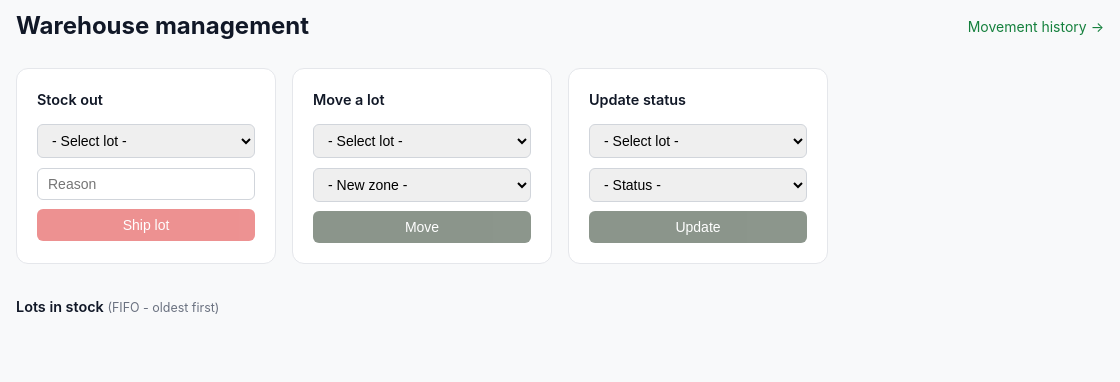
Test: WarehouseView › shows a success message after updating a lot status
Step 1. Select "ABC123" in the 3rd dropdown → (698, 141), box [589,124,807,158]
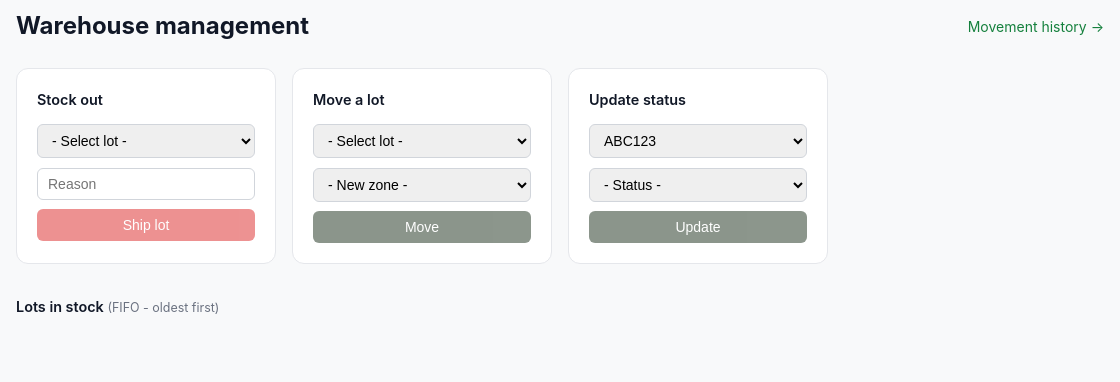
Step 2. Select "Compliant" in the 5th dropdown → (698, 185), box [589,168,807,202]
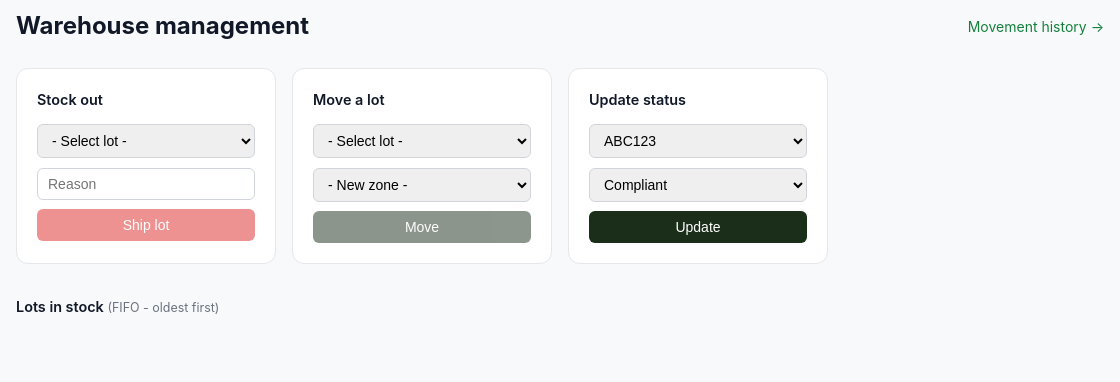
Step 3. Click the button "Update" → click(698, 227), box [589,211,807,243]
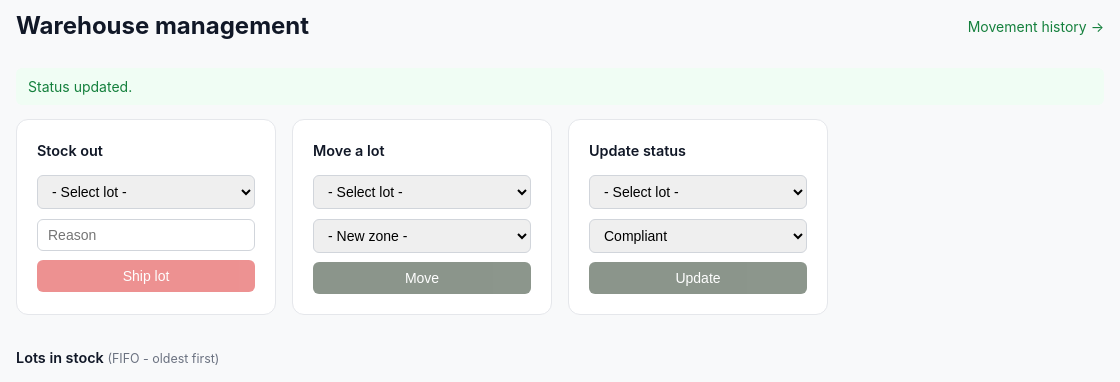
Check: the text with class "success" reads "Status updated.", box [28,78,132,95]
